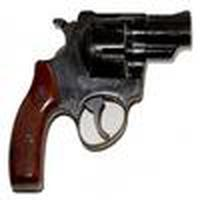gun: (7, 11, 194, 183)
